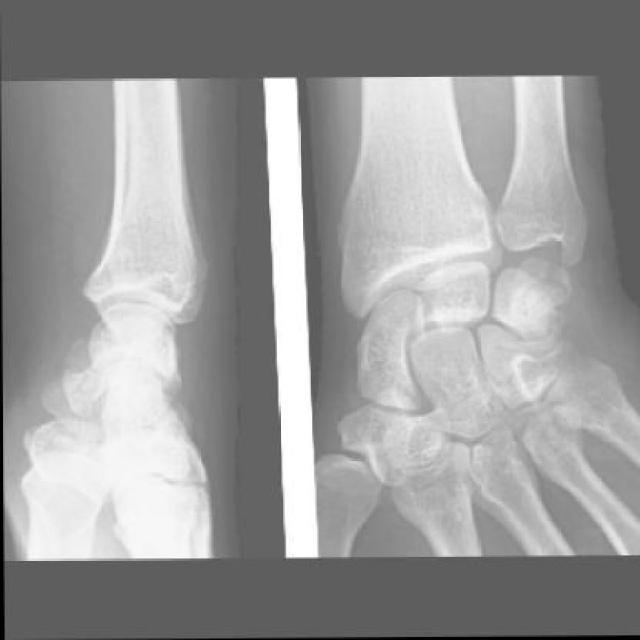Fracture: (505, 260, 579, 321)
